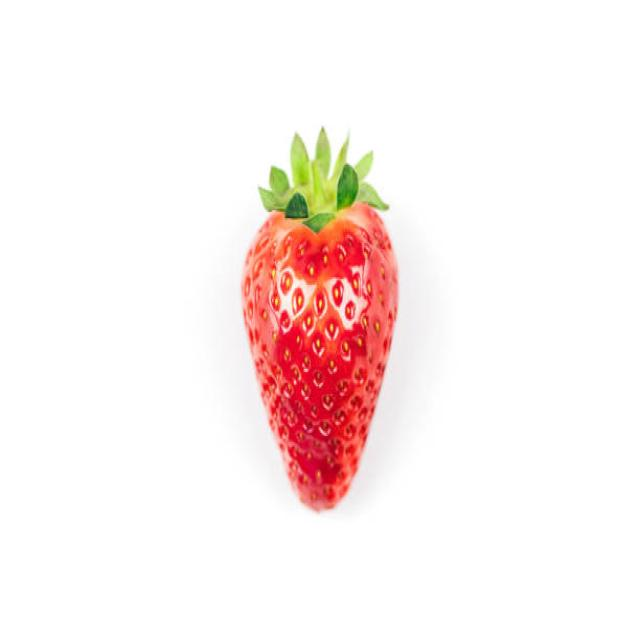Healthy Fruit: (241, 212, 399, 514)
